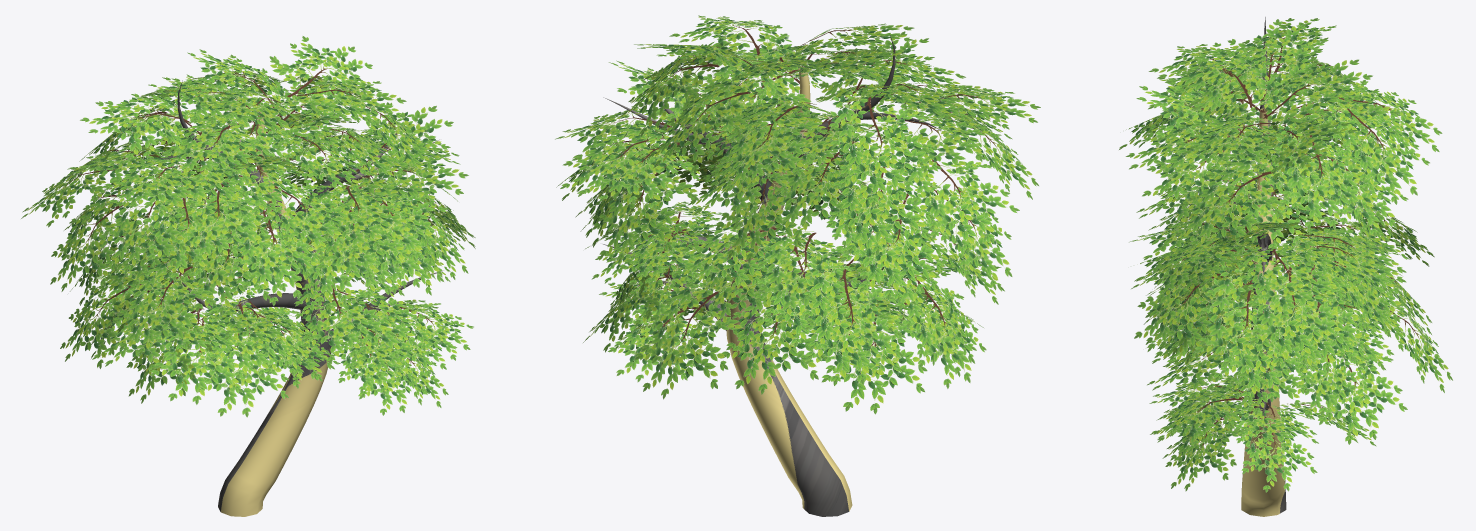
Rendered from arbre_vert_bis.fbx.
The picture shows the model from 3 angles, left to right: view 1: azimuth 30°, elevation 25°; view 2: azimuth 150°, elevation 25°; view 3: azimuth 270°, elevation 25°; orthographic projection. The views are drawn at different scales.
Visible parts, largest first — view 1: Arbre_vert_plane; view 2: Arbre_vert_plane; view 3: Arbre_vert_plane.
Boxes of the visible parts, x1,y1,x2,y2 form: Arbre_vert_plane: (21,36,475,516); Arbre_vert_plane: (555,15,1040,516); Arbre_vert_plane: (1119,17,1452,516).
Size of the model in its own units: 54.68 by 51 by 37.63.
